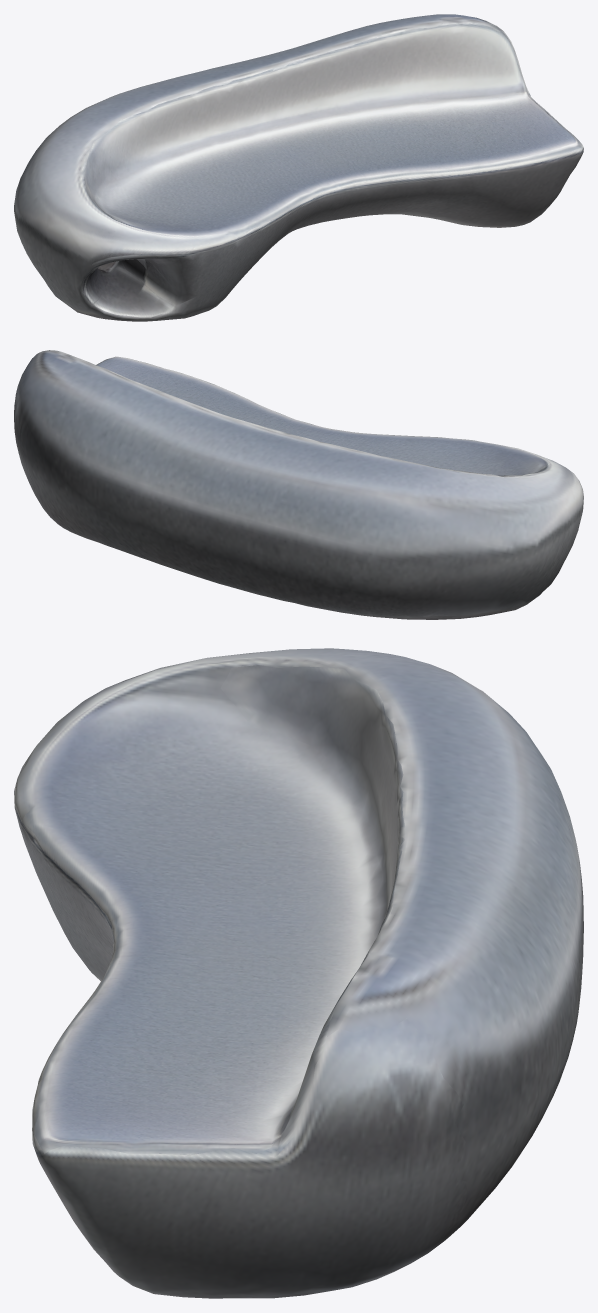
File: DDP_벤치.glb
The picture shows the model from 3 angles, top to bottom: view 1: azimuth 30°, elevation 25°; view 2: azimuth 150°, elevation 25°; view 3: azimuth 270°, elevation 25°; orthographic projection. The views are drawn at different scales.
Parts seen in each view (by area): view 1: texture_mapping; view 2: texture_mapping; view 3: texture_mapping.
Part boxes in pixels (box(x1,y1,x2,y2)): texture_mapping: box(14, 14, 583, 321); texture_mapping: box(14, 350, 583, 619); texture_mapping: box(14, 648, 583, 1298).
Size of the model in its own units: 0.9988 by 0.3224 by 0.5092.
1 material, 1 textured.
